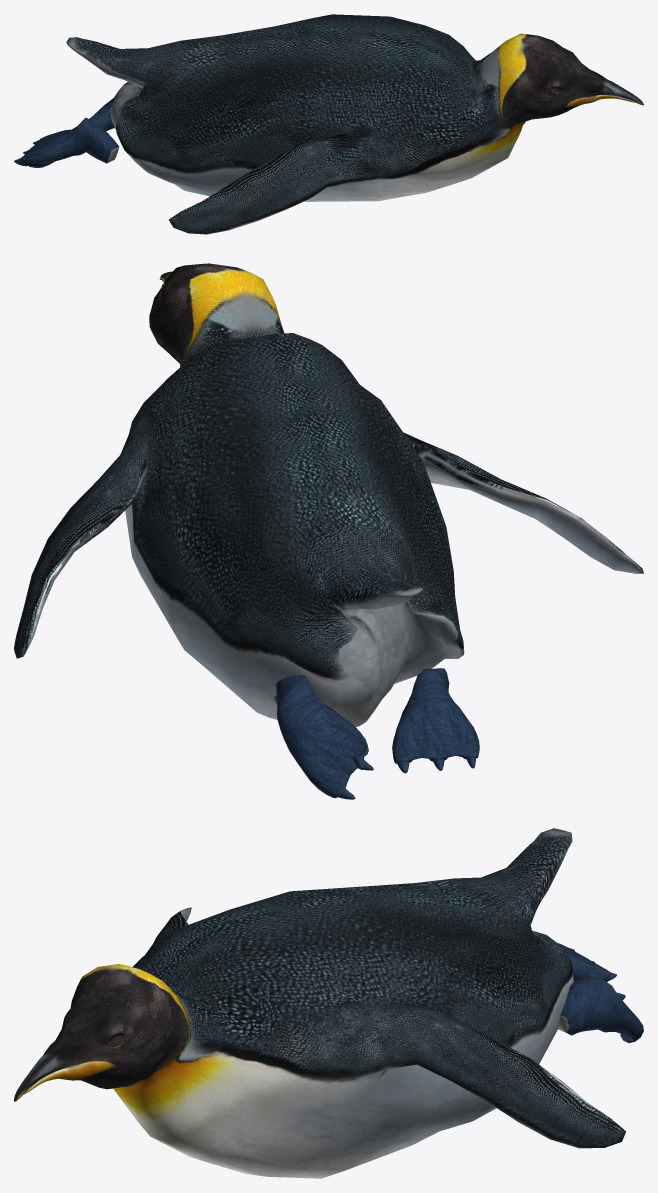
The picture shows the model from 3 angles, top to bottom: view 1: azimuth 30°, elevation 25°; view 2: azimuth 150°, elevation 25°; view 3: azimuth 270°, elevation 25°; orthographic projection. The views are drawn at different scales.
Visible parts, largest first — view 1: penguin.006_penguin.007; view 2: penguin.006_penguin.007; view 3: penguin.006_penguin.007.
Boxes of the visible parts, box(x1,y1,x2,y2) form: penguin.006_penguin.007: box(14, 14, 643, 234); penguin.006_penguin.007: box(14, 263, 643, 799); penguin.006_penguin.007: box(14, 828, 643, 1178).
Bounding box in the file's own units: 22.77 × 9.7 × 20.94.
